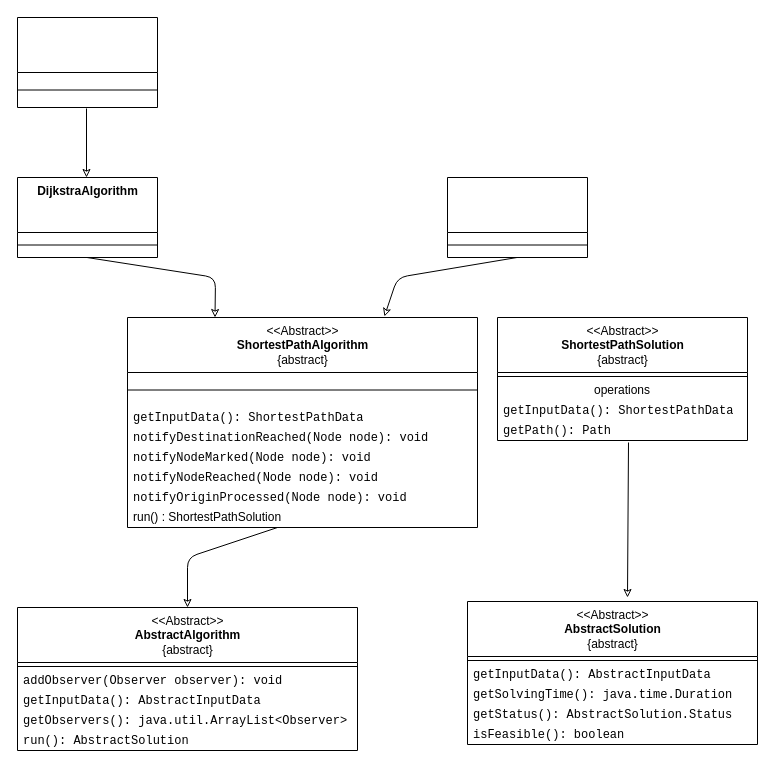
Image size: 775x768. Some labels were removed from this diagram. Here are the shapes that lost their labels. From the top down, the centre of each, then its label:
At pixel 87 62: "AStarAlgorithm".
At pixel 517 217: "BellmanFordAlgorithm".
